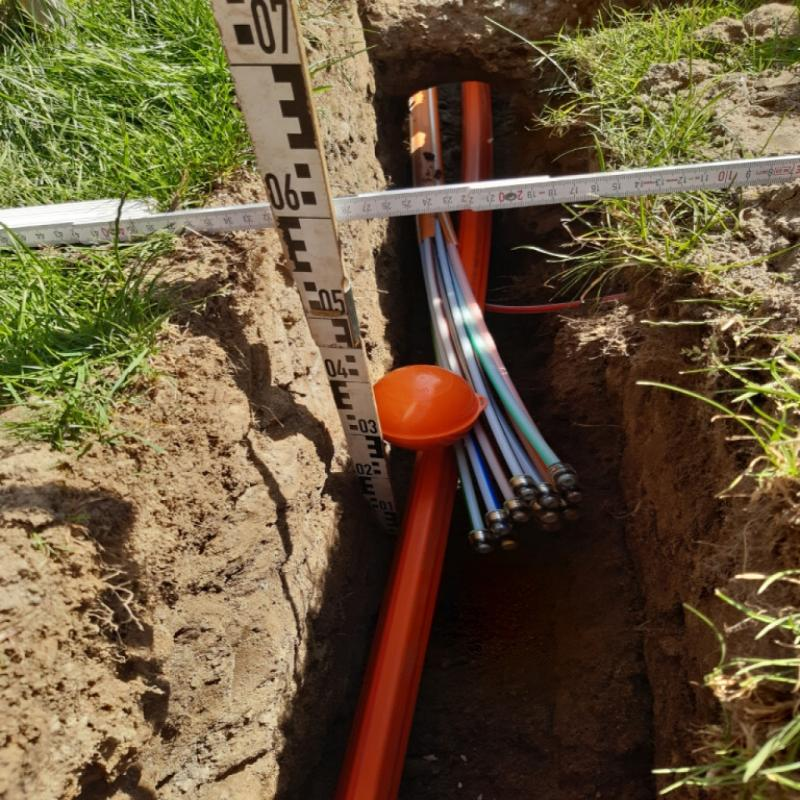Kugelmarker: (374, 363, 482, 447)
Orang-Speednetrohrchen: (342, 84, 596, 800)
